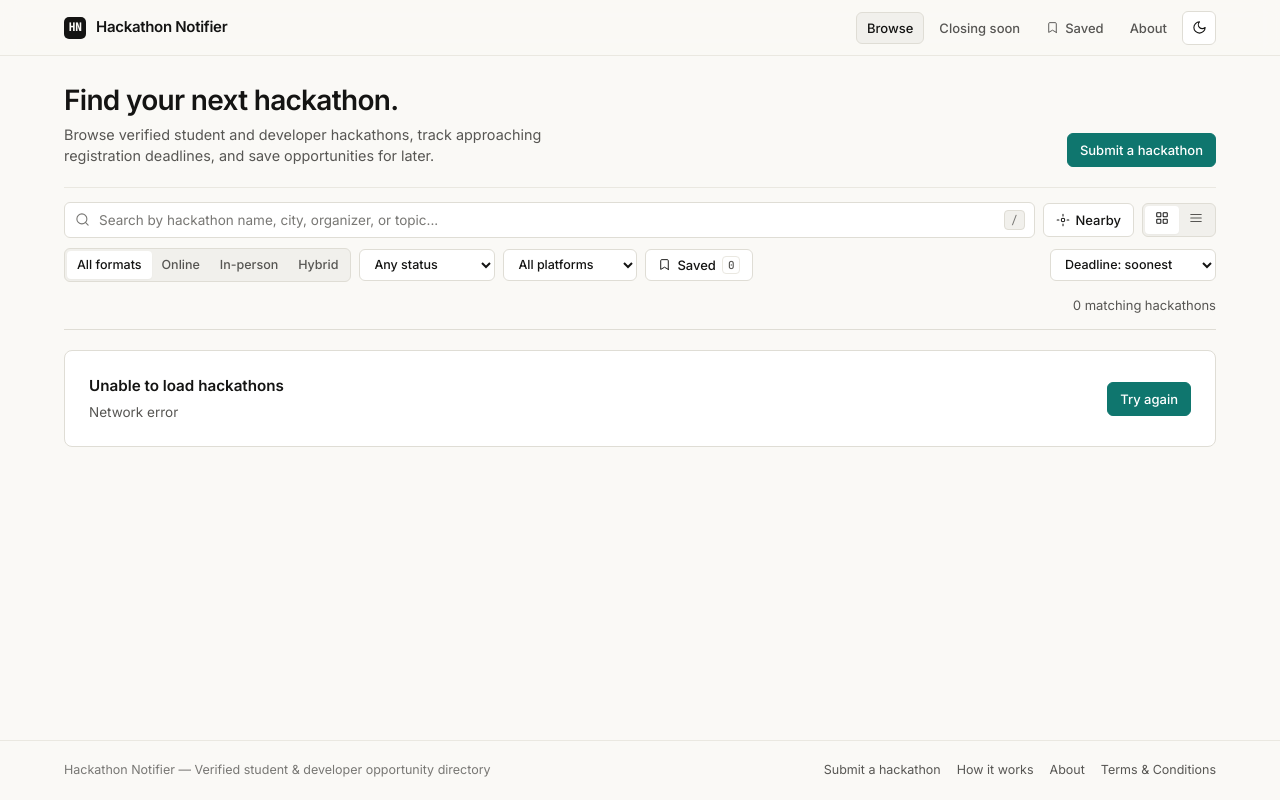
Test case: Homepage API failures & error recovery › retries fetching events when Try again button is clicked
What coordinates should you click on to do the following:
click the button "Try again"
I would click on:
 (1149, 399)
Its box is [1107, 382, 1191, 416].
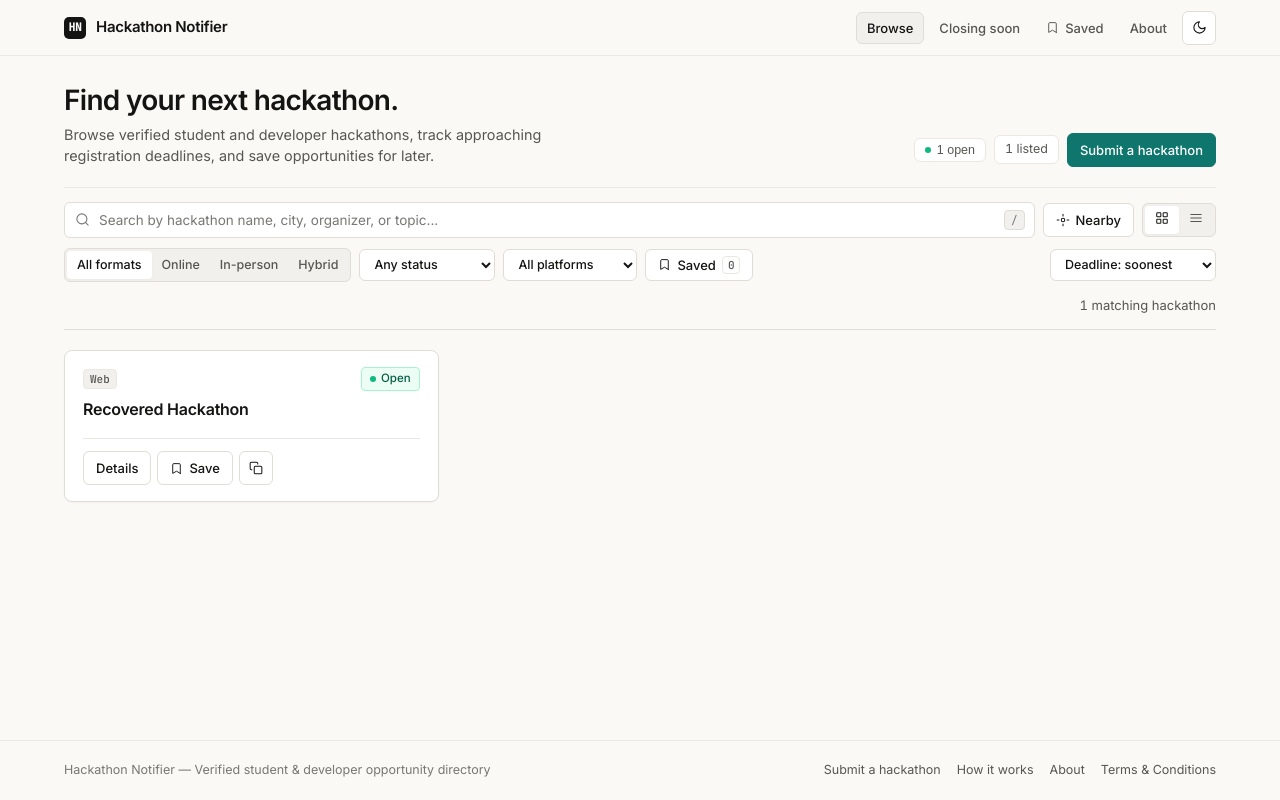
Result: the heading "Recovered Hackathon" is shown at [83, 399, 249, 419]
